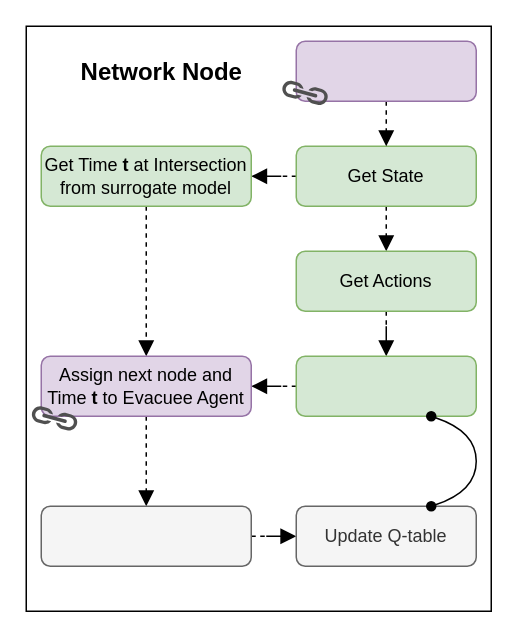
This 518x638 diagram has some shape labels left out. The shapes that lost their labels are listed below. From the top down, each one's centre as x and y in pixels, then its label:
(385,70): Evacuee Agent Arrived
(385,385): Get Q-value
(145,535): Calculate Penalty/Reward
